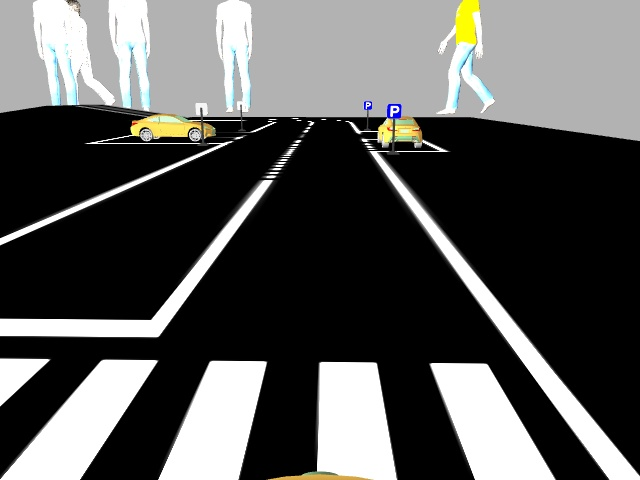Parking: (383, 101, 402, 118), (363, 100, 373, 110)
